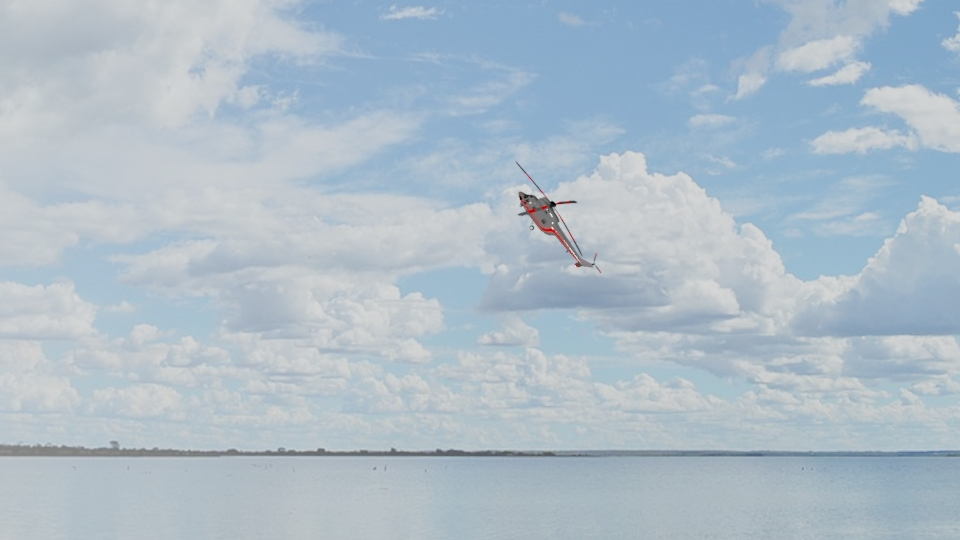heli: (515, 160, 602, 272)
